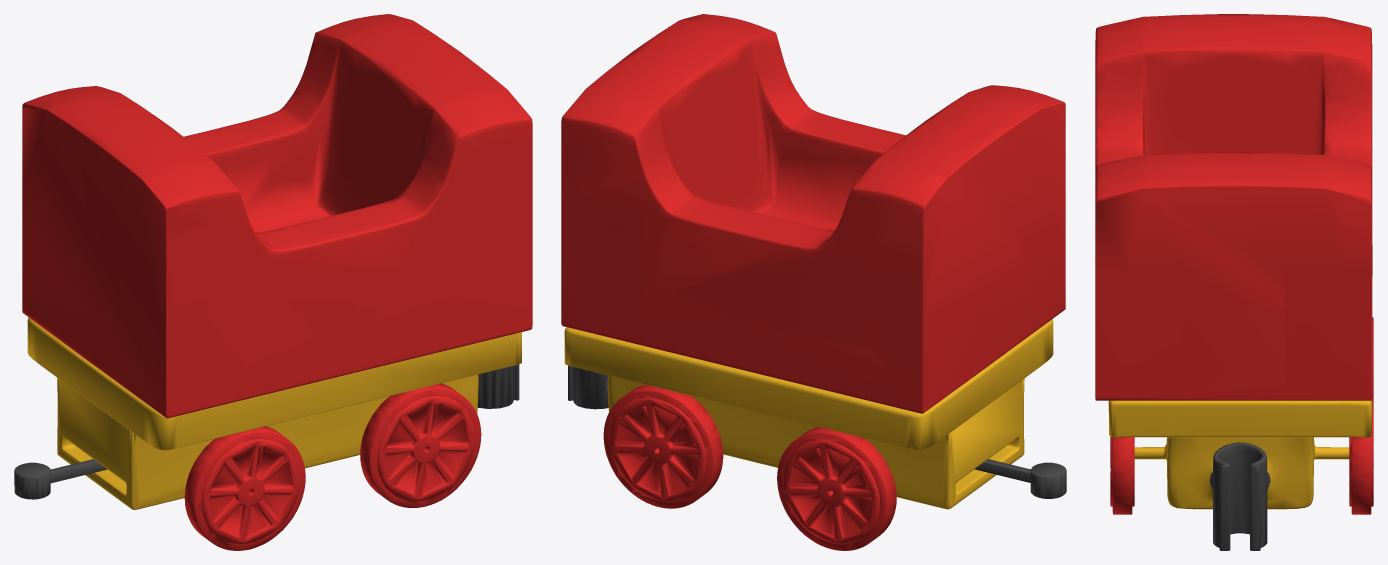
The model's file is train_vagone2_LOD0.fbx.
3 views of the same model, side by side, from view 1: azimuth 30°, elevation 25°; view 2: azimuth 150°, elevation 25°; view 3: azimuth 270°, elevation 25° (orthographic). The views are drawn at different scales.
Visible parts, largest first — view 1: train car; view 2: train car; view 3: train car.
Boxes of the visible parts, box(x1,y1,x2,y2) form: train car: box(14, 14, 532, 550); train car: box(561, 14, 1066, 550); train car: box(1095, 14, 1373, 550).
Bounding box in the file's own units: 218 × 165 × 111.
